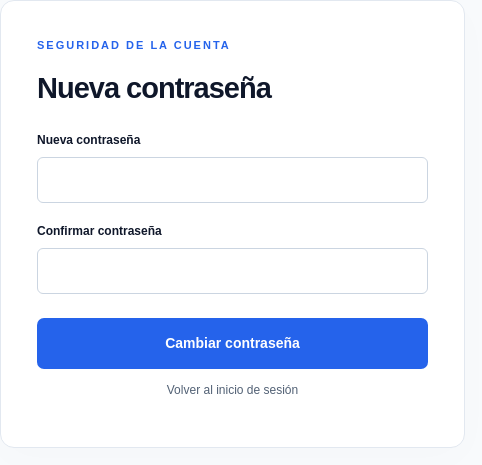
Test: confirms a valid token and links back to login
Type "Nueva-clave!9842" into the password field labelled "Nueva contraseña" at (232, 180), box [37,157,428,203]
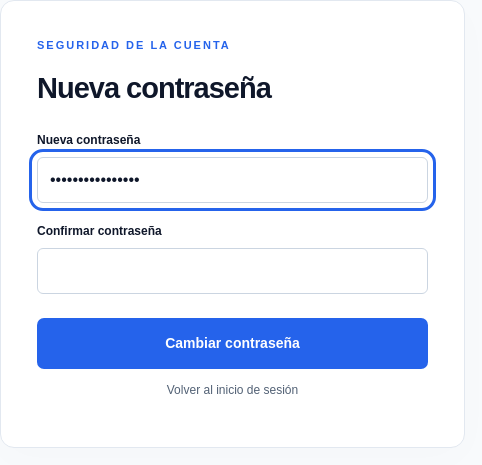
Type "Nueva-clave!9842" into the password field labelled "Confirmar contraseña" at (232, 271), box [37,248,428,294]
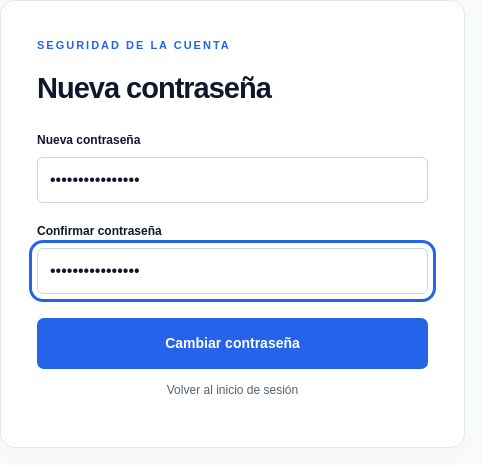
Click the button "Cambiar contraseña" at (232, 343), box [37,318,428,369]
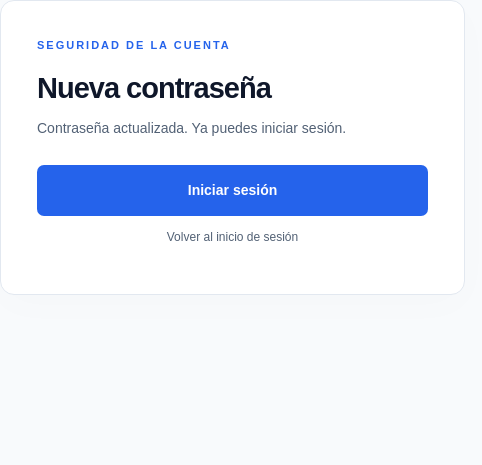
Expected: the message shows "Contraseña actualizada", [37,120,346,136]
